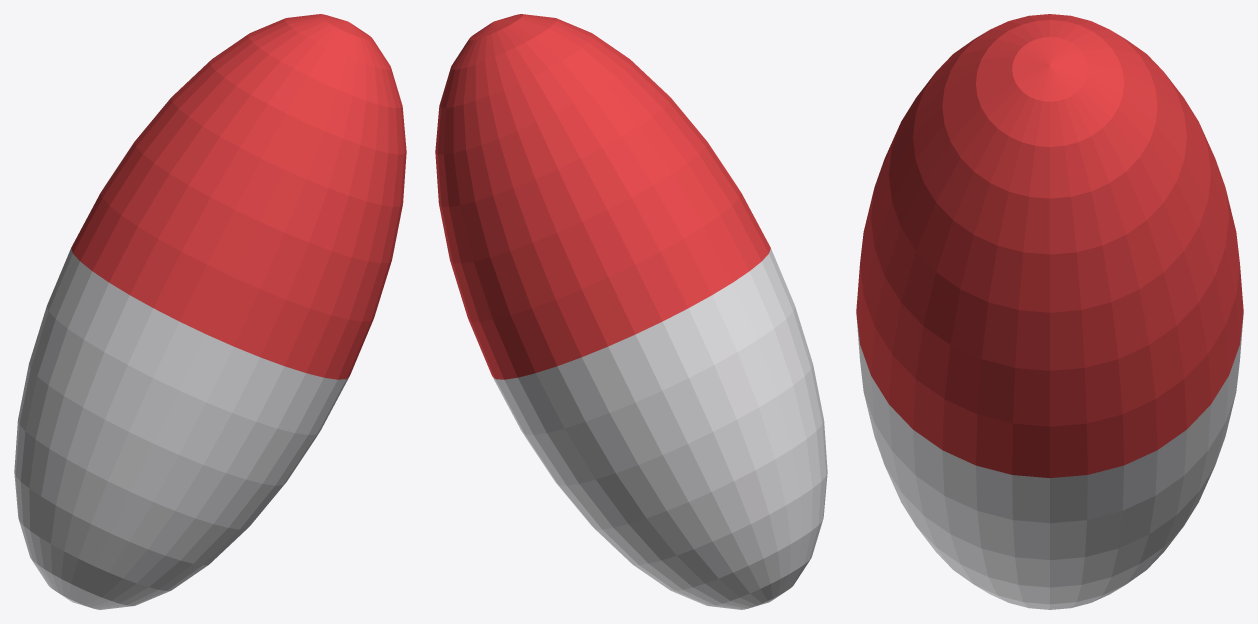
The model's file is pill.fbx.
3 views of the same model, side by side, from view 1: azimuth 30°, elevation 25°; view 2: azimuth 150°, elevation 25°; view 3: azimuth 270°, elevation 25° (orthographic). The views are drawn at different scales.
Visible parts, largest first — view 1: Sphere; view 2: Sphere; view 3: Sphere.
Boxes of the visible parts, left/top/right/bottom form: Sphere: left=14, top=14, right=406, bottom=609; Sphere: left=435, top=14, right=827, bottom=609; Sphere: left=856, top=14, right=1243, bottom=609.
Size of the model in its own units: 385 by 538 by 273.
